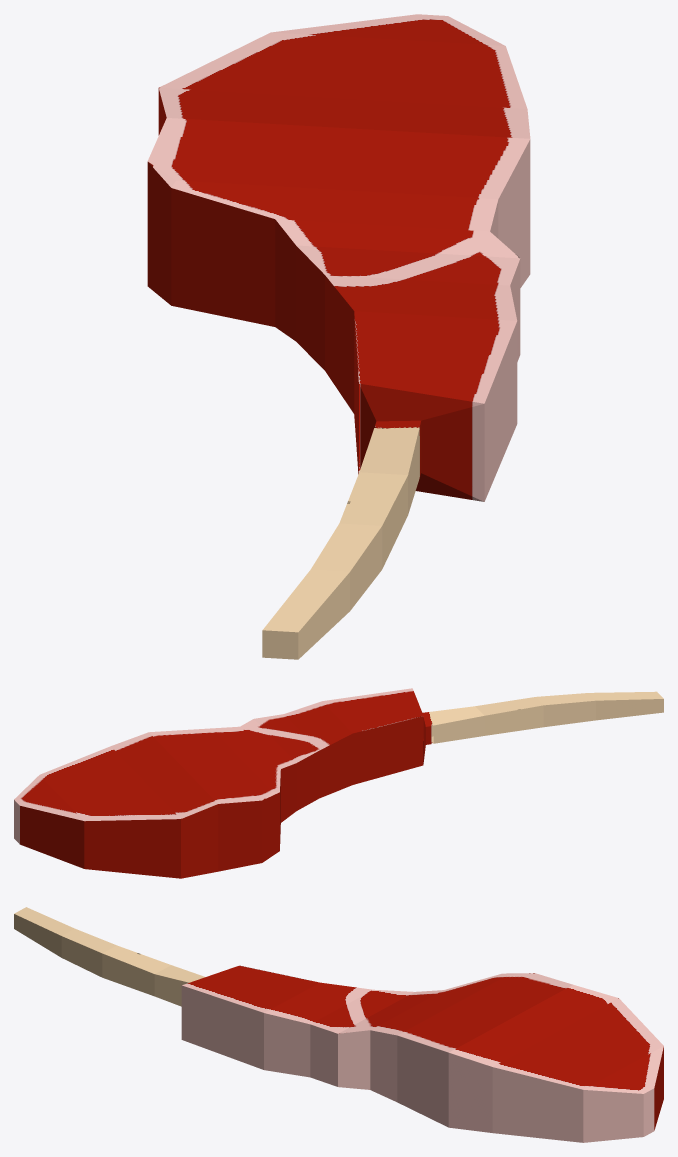
Rendered from Lamb2.Ani.fbx.
3 views of the same model, one above another, from view 1: azimuth 30°, elevation 25°; view 2: azimuth 150°, elevation 25°; view 3: azimuth 270°, elevation 25° (orthographic). The views are drawn at different scales.
Visible parts, largest first — view 1: Lamb; view 2: Lamb; view 3: Lamb.
Boxes of the visible parts, <box> form: Lamb: <box>147,14,530,659</box>; Lamb: <box>14,688,663,878</box>; Lamb: <box>14,907,663,1142</box>.
Bounding box in the file's own units: 215 × 37.31 × 293.
1 material, 1 textured.
